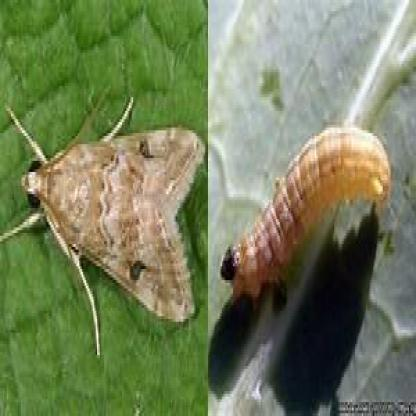Hellula undalis: (0, 73, 205, 365)
